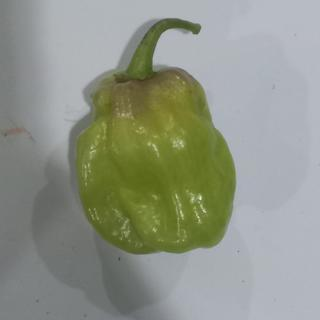Grade-A: (70, 61, 243, 255)
